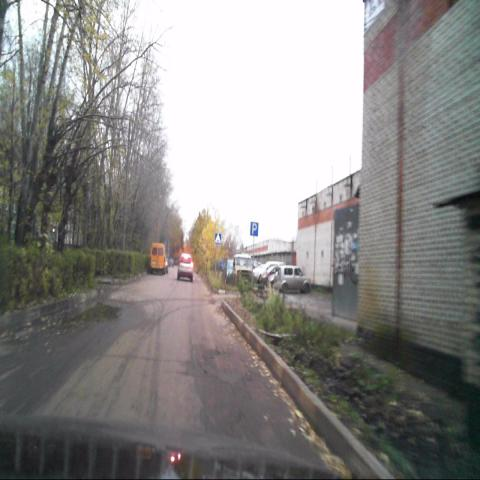5_20: (214, 233, 222, 245)
6_4: (250, 221, 258, 236)
